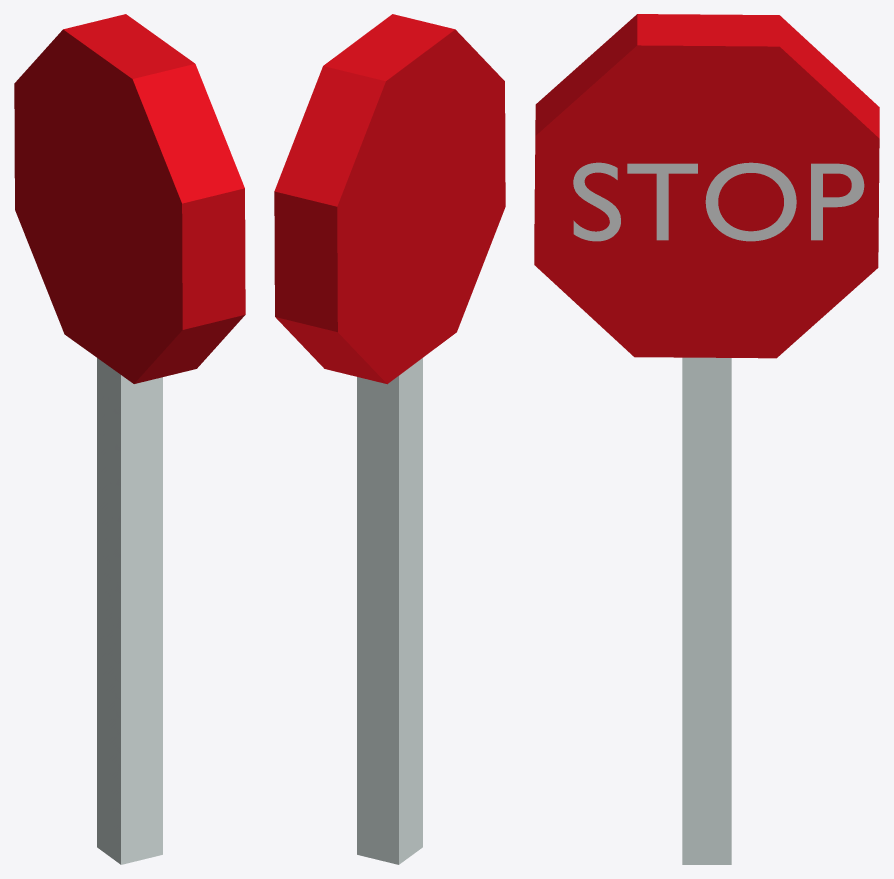
3 views of the same model, side by side, from view 1: azimuth 30°, elevation 25°; view 2: azimuth 150°, elevation 25°; view 3: azimuth 270°, elevation 25° (orthographic). The views are drawn at different scales.
Visible parts, largest first — view 1: Cylinder, Cube; view 2: Cylinder, Cube; view 3: Cylinder, Cube, Text.
Boxes of the visible parts, x1,y1,x2,y2 form: Cylinder: (14, 14, 245, 383); Cube: (97, 358, 162, 864); Cylinder: (274, 14, 505, 384); Cube: (357, 358, 422, 864); Cylinder: (534, 14, 879, 358); Cube: (682, 357, 731, 864); Text: (573, 162, 864, 241).
Size of the model in its own units: 31 by 367 by 139.
